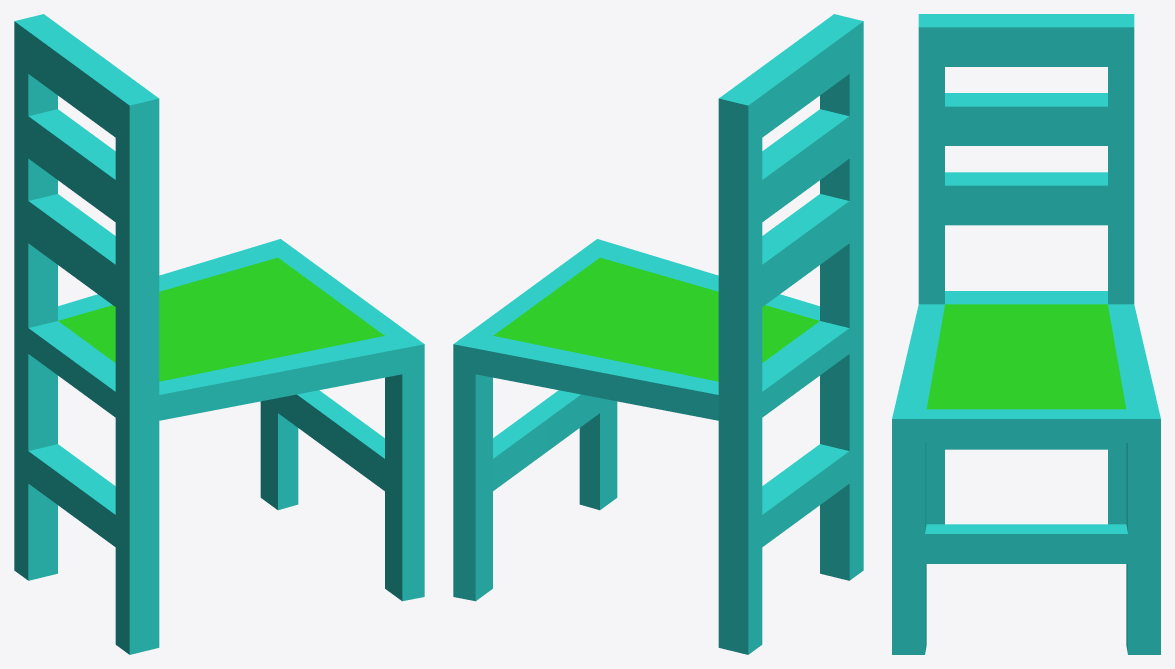
File: chair-1stattempt.glb
3 renders of one model, left to right at view 1: azimuth 30°, elevation 25°; view 2: azimuth 150°, elevation 25°; view 3: azimuth 270°, elevation 25°, orthographic. The views are drawn at different scales.
Visible parts, largest first — view 1: Plane; view 2: Plane; view 3: Plane.
Part boxes in pixels (x1,y1,x2,y2): Plane: (14,14,424,654); Plane: (453,14,863,654); Plane: (892,14,1160,654).
Bounding box in the file's own units: 1.61 × 3.02 × 1.43.
